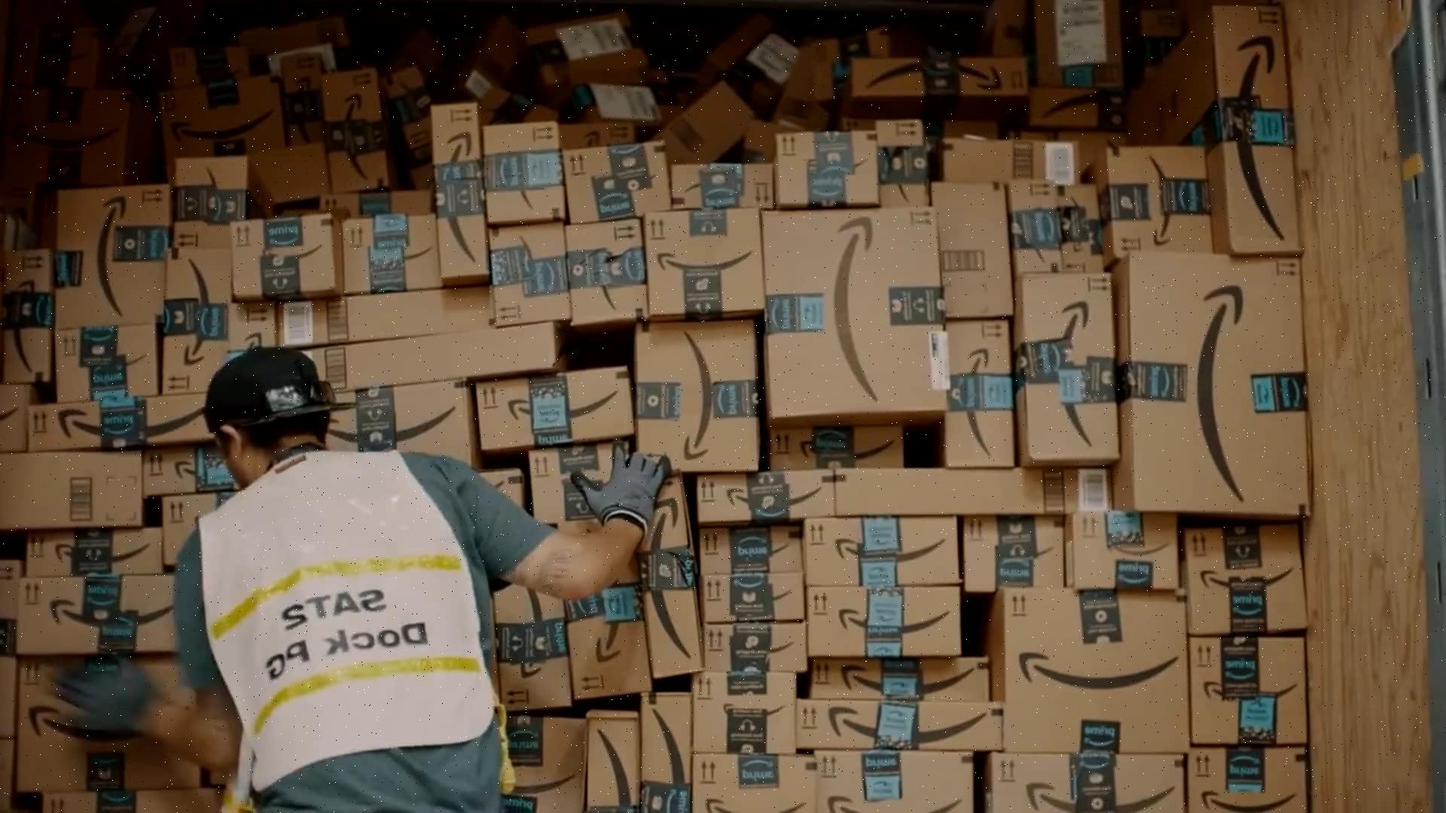Box: (1113, 251, 1310, 517), (763, 206, 949, 423), (988, 587, 1189, 754), (1197, 6, 1302, 254), (161, 155, 249, 394), (1014, 274, 1118, 466), (635, 319, 760, 471), (308, 322, 562, 390), (54, 183, 172, 329), (1183, 522, 1308, 635), (1093, 147, 1212, 265), (477, 367, 635, 452), (644, 209, 765, 319), (1189, 635, 1308, 745), (277, 285, 491, 346), (17, 573, 175, 655), (638, 474, 700, 678), (328, 381, 480, 464), (3, 88, 130, 186), (1028, 0, 1124, 128), (986, 751, 1183, 813), (844, 54, 1028, 119), (0, 452, 144, 529), (429, 102, 489, 285), (805, 517, 960, 587), (808, 587, 960, 658), (943, 319, 1014, 469), (796, 700, 1003, 751), (158, 76, 285, 159), (28, 392, 209, 450), (816, 748, 974, 813), (836, 469, 1048, 517), (932, 183, 1003, 319), (494, 584, 570, 711), (232, 215, 342, 299), (1065, 511, 1178, 590), (500, 714, 587, 813), (483, 121, 565, 226), (692, 672, 796, 754), (565, 223, 647, 327), (562, 144, 669, 223), (322, 68, 390, 192), (1186, 745, 1308, 813), (489, 223, 570, 325), (525, 14, 633, 90), (808, 658, 988, 703), (774, 130, 878, 207), (342, 215, 443, 294), (54, 325, 158, 401), (963, 517, 1065, 593), (698, 469, 836, 525), (528, 440, 613, 524), (692, 757, 816, 813), (3, 248, 54, 384), (568, 618, 652, 700), (25, 528, 162, 576), (641, 692, 692, 813), (768, 426, 904, 470), (698, 525, 802, 576), (587, 711, 638, 813), (1008, 181, 1062, 274), (703, 573, 805, 622), (672, 164, 774, 209), (144, 446, 237, 495), (42, 788, 223, 813), (703, 621, 791, 672)
